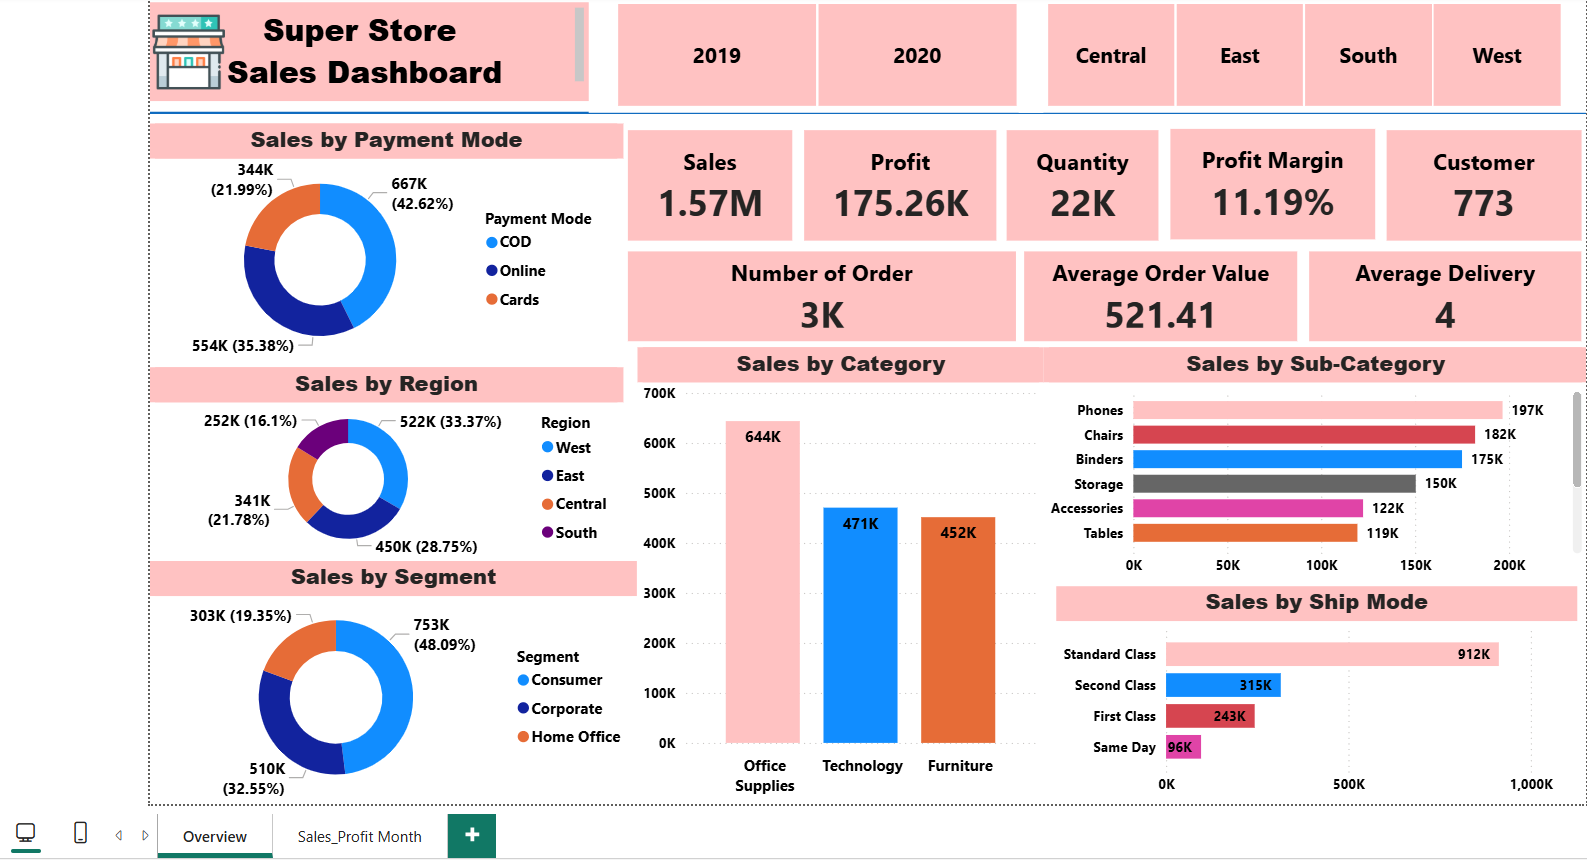

The page's visual inventory and layout, read from the dashboard file:
{"tool":"powerbi","page":{"name":"Overview","canvas":[1280,720],"ordinal":0},"visuals":[{"type":"cardVisual","fields":{"Data":["Sheet1.Total Sales"]},"box":[421,114.2,156.4,108.4],"z":0},{"type":"cardVisual","fields":{"Data":["Sheet1.Total Profit"]},"box":[577.4,114.2,181.1,108.4],"z":1000},{"type":"cardVisual","fields":{"Data":["Sum(Sheet1.Quantity)"]},"box":[758.5,114.2,145.5,108.4],"z":2000},{"type":"cardVisual","fields":{"Data":["Sheet1.Number of Order"]},"box":[421.3,222.3,355.4,90.6],"z":3000},{"type":"cardVisual","fields":{"Data":["Sheet1.Average Order Value"]},"box":[773.9,222.3,253.9,90.6],"z":4000},{"type":"cardVisual","fields":{"Data":["Sheet1.Profit Margin"]},"box":[904.3,113.9,192.1,108.4],"z":5000},{"type":"cardVisual","fields":{"Data":["Sheet1.Total Customer"]},"box":[1096.1,114.2,183.9,108.4],"z":6000},{"type":"shape","box":[0,83.7,1280.3,41.2],"z":7000},{"type":"donutChart","title":" Sales by Payment Mode","fields":{"Y":["Sheet1.Total Sales"],"Category":["Sheet1.Payment Mode"]},"box":[0,113.9,421.3,216.8],"z":8000},{"type":"donutChart","title":" Sales by Region","fields":{"Y":["Sheet1.Total Sales"],"Category":["Sheet1.Region"]},"box":[0,330.7,421.3,172.9],"z":9000},{"type":"donutChart","title":" Sales by Segment","fields":{"Y":["Sheet1.Total Sales"],"Category":["Sheet1.Segment"]},"box":[0,503.6,433.6,216.8],"z":10000},{"type":"barChart","title":" Sales by Ship Mode","fields":{"Y":["Sheet1.Total Sales"],"Category":["Sheet1.Ship Mode"]},"box":[806.9,525.6,463.8,194.9],"z":12000},{"type":"columnChart","title":" Sales by Category","fields":{"Category":["Sheet1.Category"],"Y":["Sheet1.Total Sales"]},"box":[433.6,312.9,362.3,407.5],"z":13000},{"type":"cardVisual","fields":{"Data":["Avg(Sheet1.Diff_ship_Order date)"]},"box":[1027.8,222.3,252.5,90.6],"z":14000},{"type":"slicer","fields":{"Values":["Sheet1.Region"]},"box":[773.9,0,506.3,104.3],"z":15000},{"type":"textbox","box":[0,5.5,391.1,87.8],"z":16000},{"type":"image","box":[0,6.9,68.6,86.4],"z":17000},{"type":"slicer","fields":{"Values":["Sheet1.Order Date.Variation.Date Hierarchy.Year"]},"box":[391.1,0,404.8,104.3],"z":18000},{"type":"barChart","title":" Sales by Sub-Category","fields":{"Y":["Sheet1.Total Sales"],"Category":["Sheet1.Sub-Category"]},"box":[795.9,312.9,484.4,212.7],"z":18001}]}

Visuals, with their boxes on the page's 1280x720 design canvas (x1, y1, x2, y2). These are canvas units, not pixel positions in the 1587x860 screenshot, which may show the page scaled, cropped or inside an application window:
cardVisual - Sheet1.Total Sales: select_region(421, 114, 577, 223)
cardVisual - Sheet1.Total Profit: select_region(577, 114, 758, 223)
cardVisual - Sum(Sheet1.Quantity): select_region(758, 114, 904, 223)
cardVisual - Sheet1.Number of Order: select_region(421, 222, 777, 313)
cardVisual - Sheet1.Average Order Value: select_region(774, 222, 1028, 313)
cardVisual - Sheet1.Profit Margin: select_region(904, 114, 1096, 222)
cardVisual - Sheet1.Total Customer: select_region(1096, 114, 1280, 223)
shape: select_region(0, 84, 1280, 125)
" Sales by Payment Mode" donutChart: select_region(0, 114, 421, 331)
" Sales by Region" donutChart: select_region(0, 331, 421, 504)
" Sales by Segment" donutChart: select_region(0, 504, 434, 720)
" Sales by Ship Mode" barChart: select_region(807, 526, 1271, 720)
" Sales by Category" columnChart: select_region(434, 313, 796, 720)
cardVisual - Avg(Sheet1.Diff_ship_Order date): select_region(1028, 222, 1280, 313)
slicer - Sheet1.Region: select_region(774, 0, 1280, 104)
textbox: select_region(0, 6, 391, 93)
image: select_region(0, 7, 69, 93)
slicer - Sheet1.Order Date.Variation.Date Hierarchy.Year: select_region(391, 0, 796, 104)
" Sales by Sub-Category" barChart: select_region(796, 313, 1280, 526)
